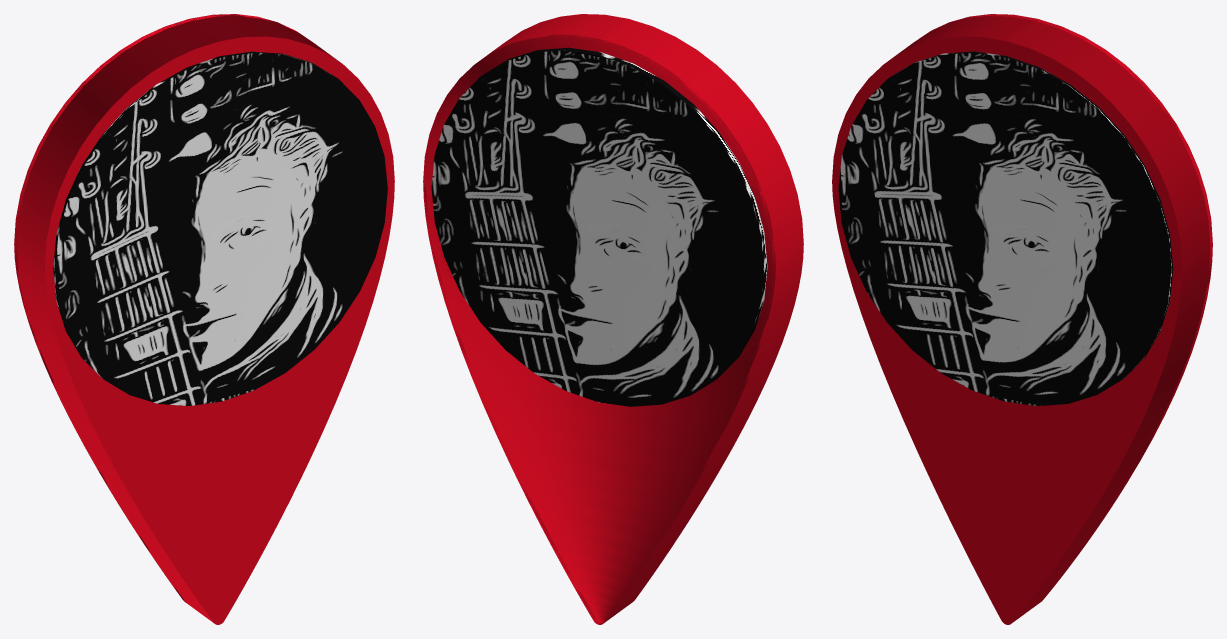
The model's file is did.glb.
3 views of the same model, side by side, from view 1: azimuth 30°, elevation 25°; view 2: azimuth 150°, elevation 25°; view 3: azimuth 330°, elevation 25° (orthographic).
Parts seen in each view (by area): view 1: Cylindre, Curve; view 2: Cylindre, Curve; view 3: Cylindre, Curve.
Boxes of the visible parts, box(x1,y1,x2,y2) form: Cylindre: box(53, 51, 387, 405); Curve: box(14, 14, 394, 624); Cylindre: box(431, 47, 767, 406); Curve: box(423, 14, 803, 624); Cylindre: box(838, 51, 1173, 405); Curve: box(832, 14, 1212, 624).
Bounding box in the file's own units: 0.2766 × 0.4404 × 0.0467.
Materials: 2 (1 with a texture image).
